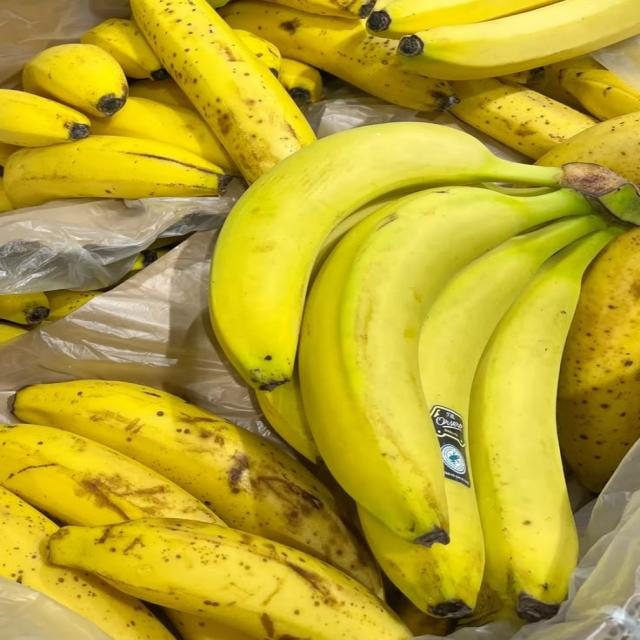unpeal banana: (298, 186, 592, 546), (360, 216, 604, 617), (210, 122, 561, 390), (14, 380, 380, 593), (469, 228, 621, 621), (49, 519, 410, 639), (131, 0, 315, 182), (0, 488, 174, 639), (220, 0, 455, 110), (0, 425, 225, 525), (0, 425, 224, 525), (558, 229, 639, 491), (398, 0, 639, 79), (5, 136, 230, 207), (450, 79, 596, 159), (92, 97, 239, 175), (22, 44, 127, 116), (367, 0, 558, 39), (536, 113, 639, 183), (256, 370, 320, 463), (80, 18, 168, 80), (0, 89, 90, 146), (526, 56, 604, 109), (560, 68, 639, 120), (164, 609, 256, 639), (394, 598, 455, 636), (269, 0, 374, 22), (234, 29, 281, 77), (280, 58, 323, 106), (129, 79, 194, 110), (46, 290, 101, 322), (0, 293, 49, 325), (0, 143, 19, 176), (0, 322, 28, 342), (0, 175, 15, 212)
